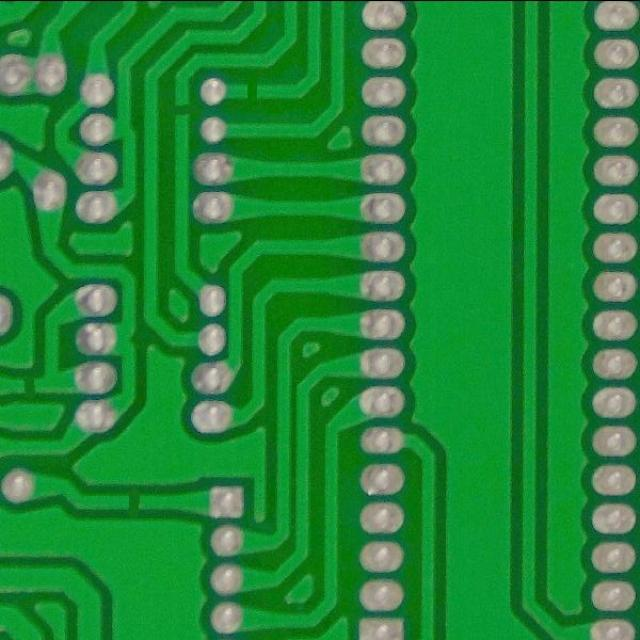Open_Circuit: (236, 70, 271, 112), (115, 483, 153, 521), (10, 367, 48, 404), (166, 94, 200, 130)
